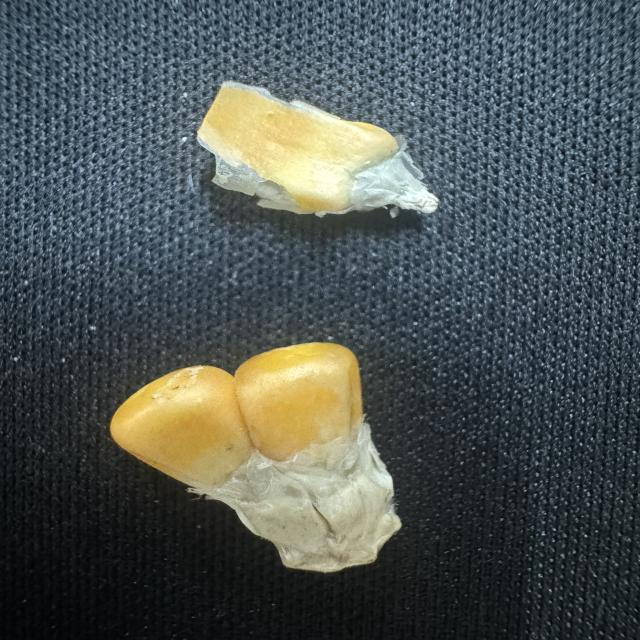Bad-Seed: (103, 340, 412, 578), (182, 75, 443, 249)
